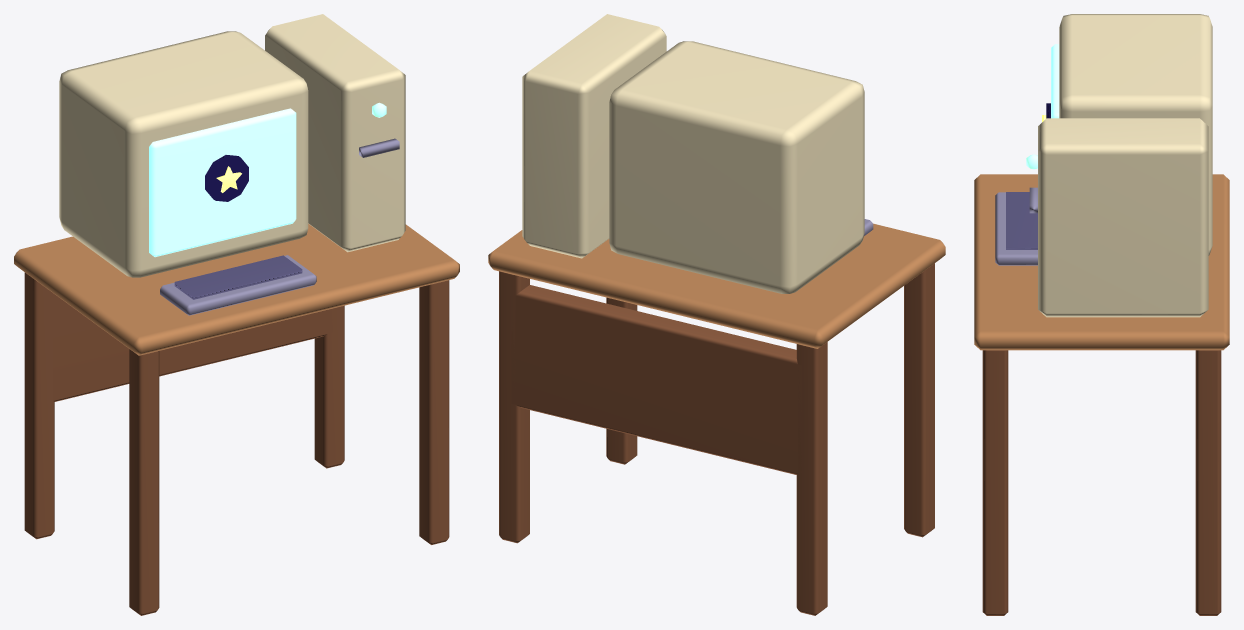
3 renders of one model, left to right at view 1: azimuth 30°, elevation 25°; view 2: azimuth 150°, elevation 25°; view 3: azimuth 270°, elevation 25°, orthographic. The views are drawn at different scales.
Parts seen in each view (by area): view 1: Pc.001; view 2: Pc.001; view 3: Pc.001.
Part boxes in pixels (x1=…): Pc.001: x1=14, y1=14, x2=459, y2=615; Pc.001: x1=488, y1=14, x2=945, y2=615; Pc.001: x1=974, y1=14, x2=1229, y2=615.
Size of the model in its own units: 0.9 by 1.21 by 0.6.
